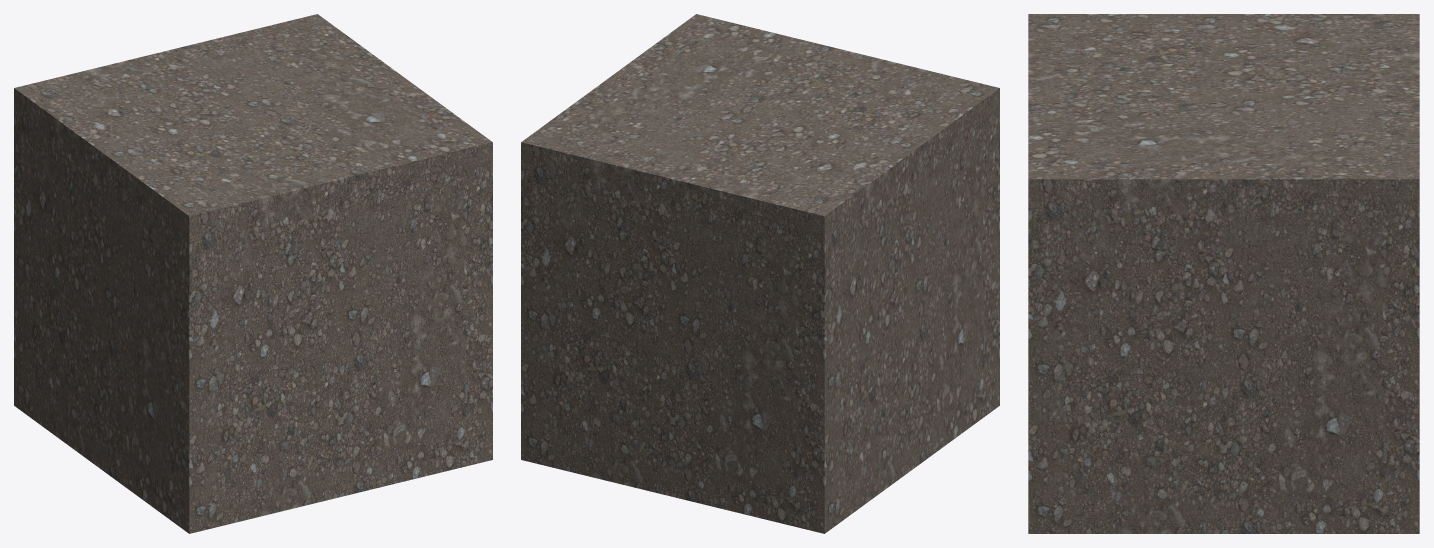
The picture shows the model from 3 angles, left to right: view 1: azimuth 30°, elevation 25°; view 2: azimuth 150°, elevation 25°; view 3: azimuth 270°, elevation 25°; orthographic projection. The views are drawn at different scales.
Visible parts, largest first — view 1: StaticMeshActor_19; view 2: StaticMeshActor_19; view 3: StaticMeshActor_19.
Boxes of the visible parts, x1=… form: StaticMeshActor_19: x1=14, y1=14, x2=492, y2=533; StaticMeshActor_19: x1=521, y1=14, x2=999, y2=533; StaticMeshActor_19: x1=1028, y1=14, x2=1419, y2=533.
Size of the model in its own units: 200 by 200 by 200.
Materials: 1 (1 with a texture image).
